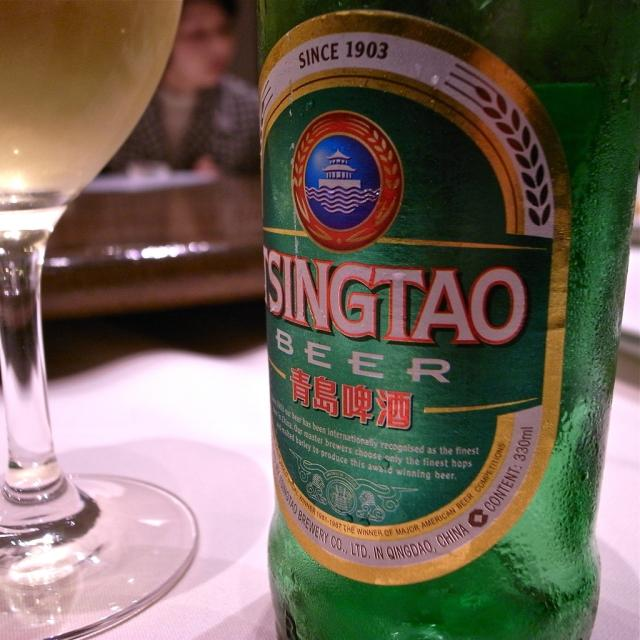tsingtao: (257, 7, 574, 588)
